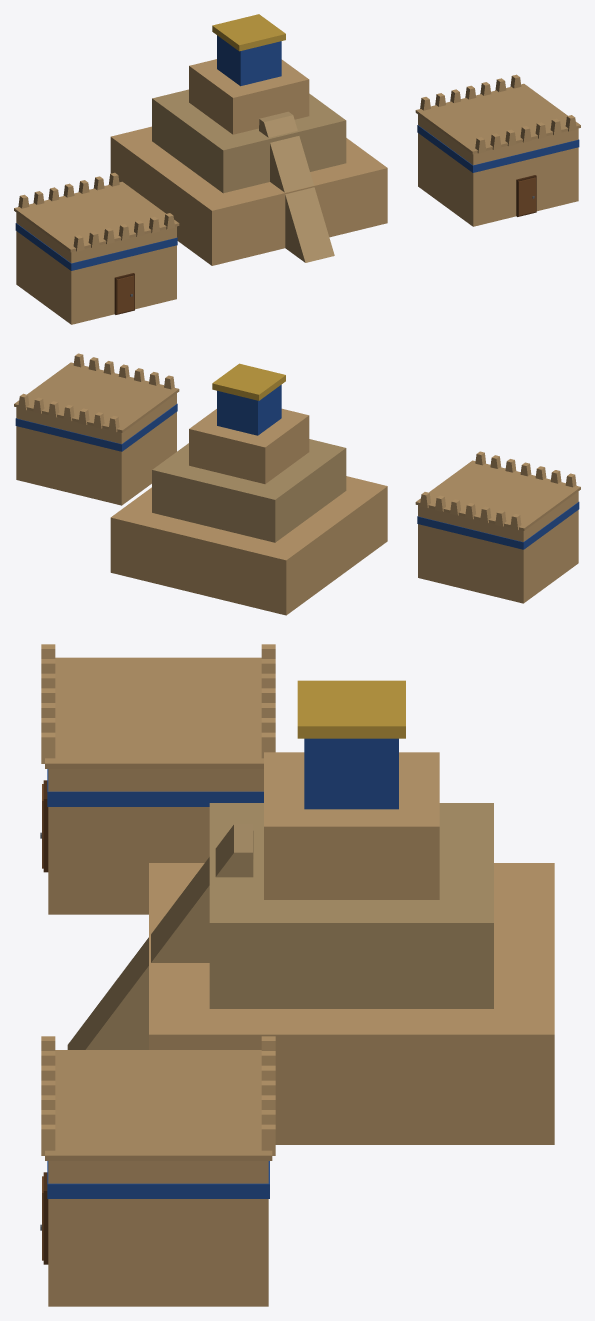
Rendered from minotaur_court.glb.
3 renders of one model, top to bottom at view 1: azimuth 30°, elevation 25°; view 2: azimuth 150°, elevation 25°; view 3: azimuth 270°, elevation 25°, orthographic. The views are drawn at different scales.
Parts seen in each view (by area): view 1: minotaur_court; view 2: minotaur_court; view 3: minotaur_court.
Part boxes in pixels (x1,y1,x2,y2): minotaur_court: (14, 14, 580, 324); minotaur_court: (14, 353, 580, 615); minotaur_court: (40, 644, 554, 1306).
Bounding box in the file's own units: 6.1 × 2.03 × 2.66.
